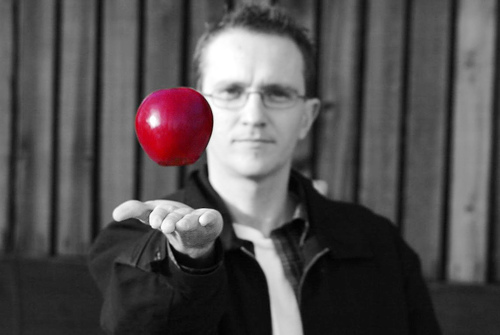apple: (133, 85, 217, 168)
